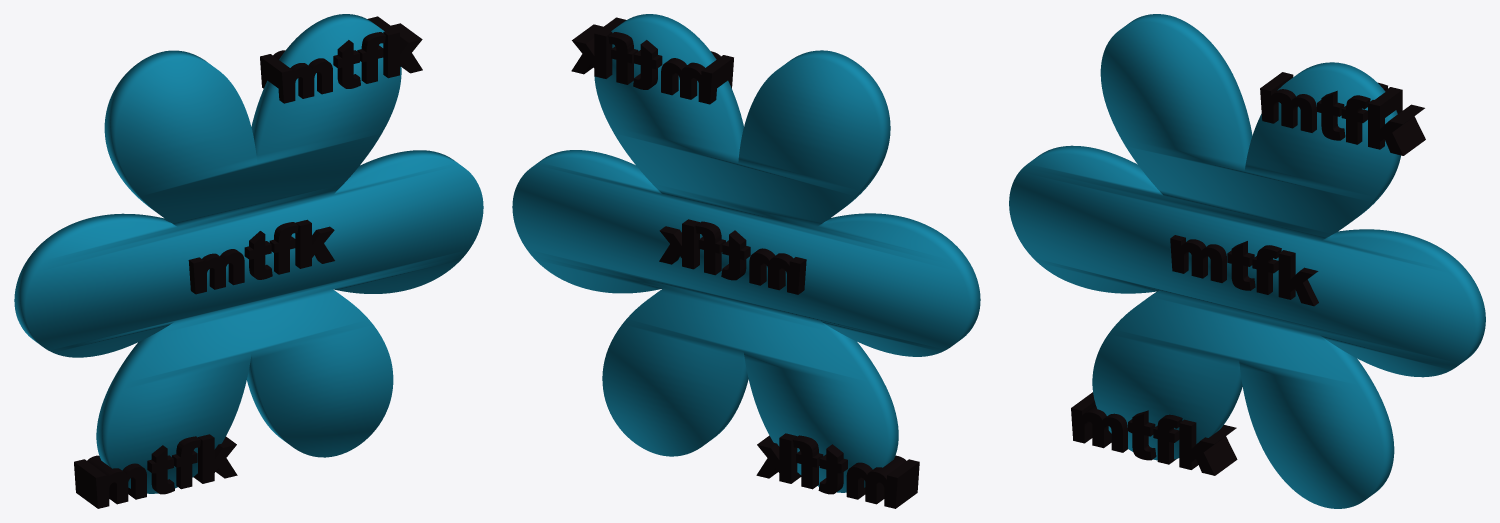
The model's file is flower.glb.
The picture shows the model from 3 angles, left to right: view 1: azimuth 30°, elevation 25°; view 2: azimuth 150°, elevation 25°; view 3: azimuth 330°, elevation 25°; orthographic projection.
Visible parts, largest first — view 1: Curve.001; view 2: Curve.001; view 3: Curve.001.
Part boxes in pixels (x1,y1,x2,y2): Curve.001: (14,14,483,508); Curve.001: (512,14,980,508); Curve.001: (1009,14,1485,508).
Bounding box in the file's own units: 0.2398 × 0.218 × 0.02.
